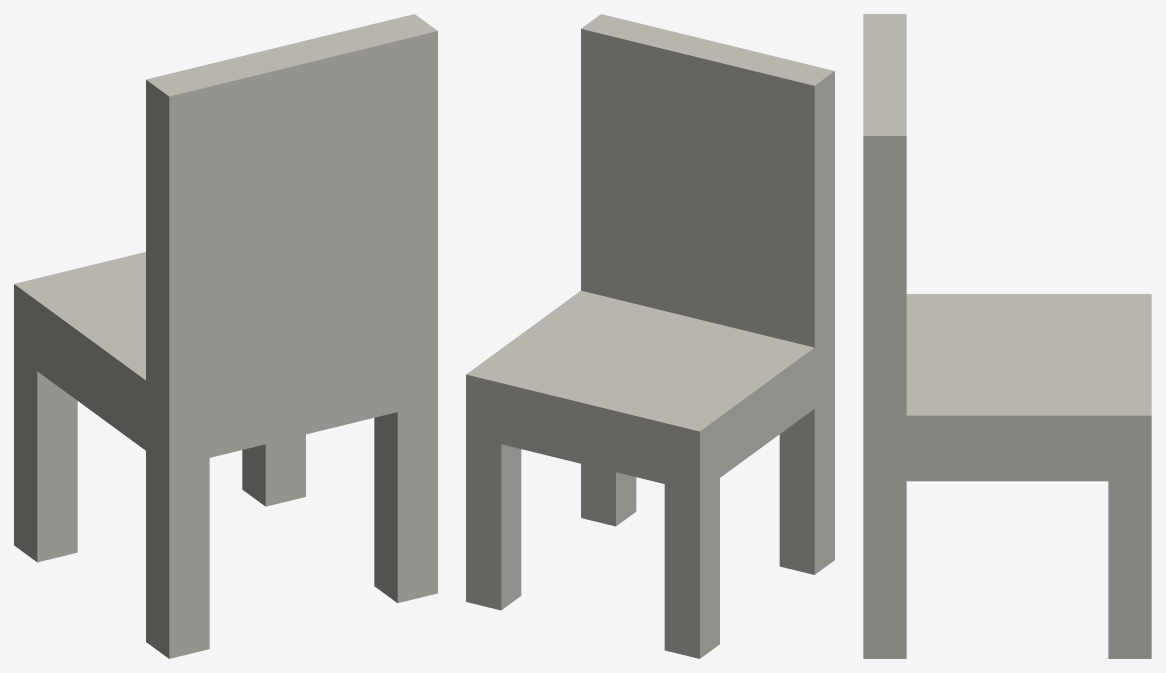
Rendered from white_chair1.fbx.
3 renders of one model, left to right at view 1: azimuth 30°, elevation 25°; view 2: azimuth 150°, elevation 25°; view 3: azimuth 270°, elevation 25°, orthographic. The views are drawn at different scales.
Visible parts, largest first — view 1: Cube; view 2: Cube; view 3: Cube.
Part boxes in pixels (bbox=[...]): Cube: bbox=[14, 14, 437, 658]; Cube: bbox=[466, 14, 834, 658]; Cube: bbox=[863, 14, 1151, 658].
Size of the model in its own units: 200 by 400 by 200.
